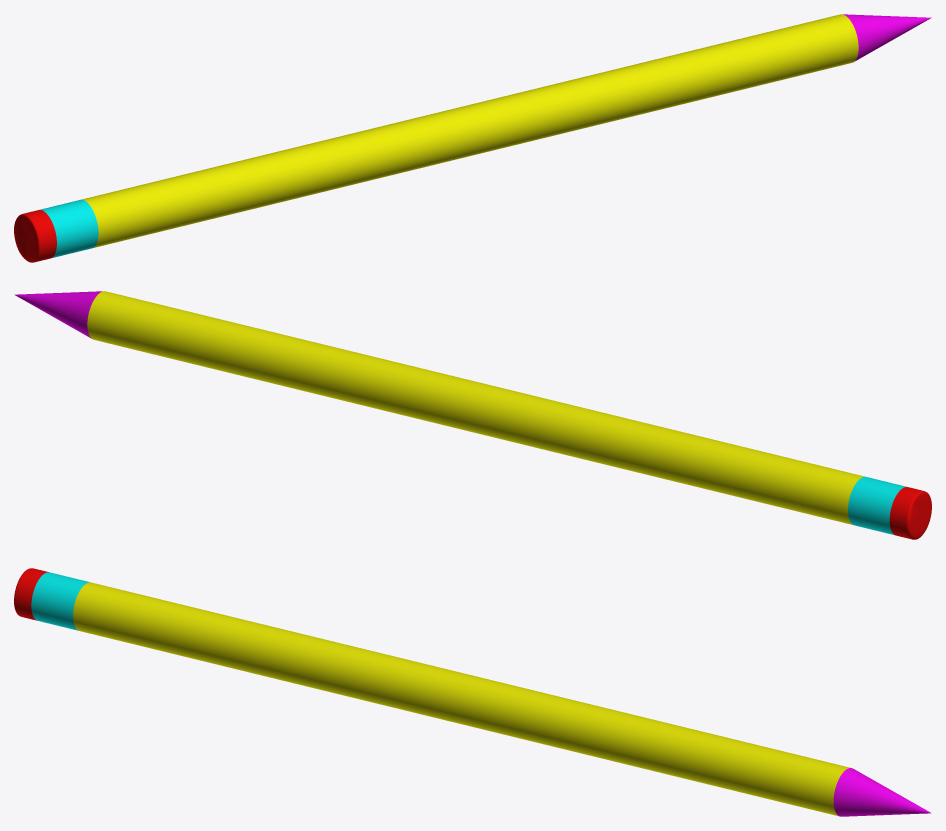
File: Pencil_high.fbx
3 views of the same model, one above another, from view 1: azimuth 30°, elevation 25°; view 2: azimuth 150°, elevation 25°; view 3: azimuth 330°, elevation 25° (orthographic).
Visible parts, largest first — view 1: Pencil_high; view 2: Pencil_high; view 3: Pencil_high.
Boxes of the visible parts, x1=… form: Pencil_high: x1=14, y1=14, x2=931, y2=262; Pencil_high: x1=14, y1=291, x2=931, y2=539; Pencil_high: x1=14, y1=568, x2=931, y2=816.
Size of the model in its own units: 40.92 by 1.95 by 1.95.
